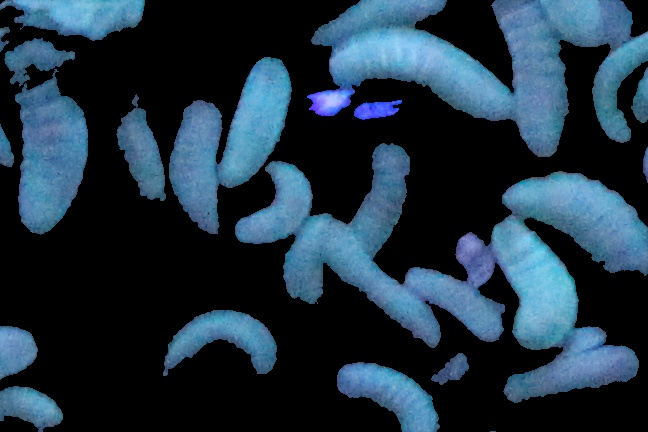larvae: (1, 8, 102, 234), (328, 29, 521, 122), (313, 215, 439, 348), (500, 170, 648, 279), (492, 1, 566, 158), (493, 217, 577, 348), (216, 52, 291, 185), (102, 74, 167, 205), (161, 308, 278, 377), (503, 345, 638, 403), (335, 363, 443, 432), (407, 266, 502, 341), (170, 101, 219, 238), (351, 144, 410, 254), (235, 161, 311, 245), (590, 36, 648, 143), (1, 1, 147, 43), (311, 1, 444, 47), (283, 212, 330, 300), (1, 386, 66, 430), (1, 318, 39, 379)
